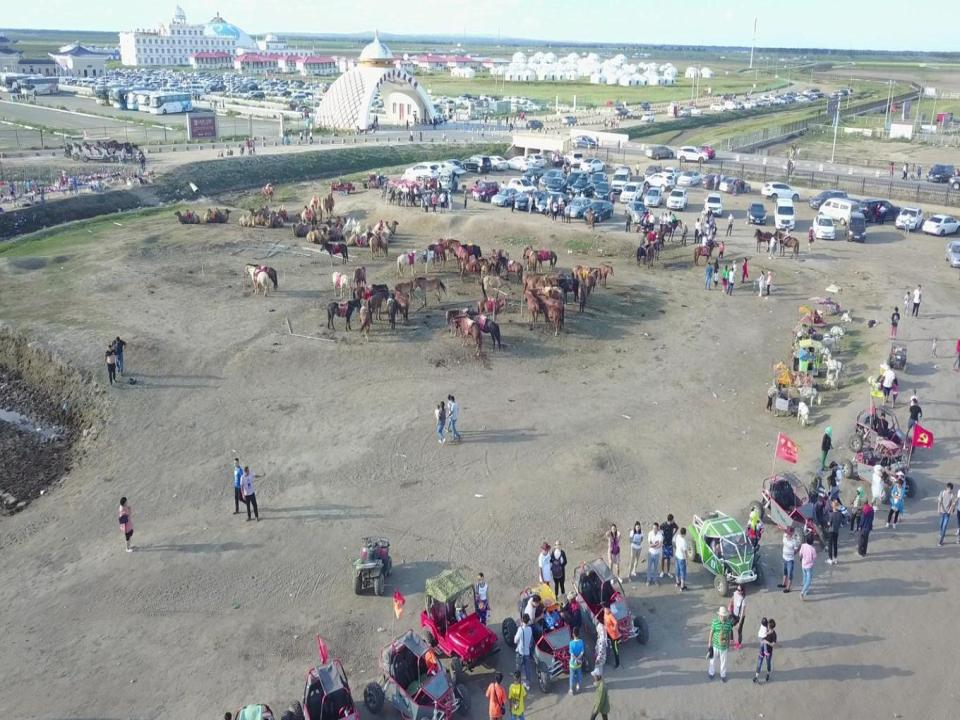bus: (149, 93, 194, 114), (106, 85, 142, 106), (95, 86, 130, 106), (20, 78, 60, 95), (114, 88, 146, 108), (127, 89, 157, 109), (139, 91, 167, 111), (2, 76, 35, 92)
car: (859, 200, 903, 222), (762, 179, 800, 202), (923, 215, 960, 238), (676, 144, 711, 165), (582, 202, 616, 222), (897, 203, 922, 230), (537, 191, 567, 213), (507, 177, 540, 197), (812, 213, 836, 240), (626, 200, 652, 224), (666, 185, 689, 212), (925, 163, 954, 184), (644, 172, 674, 192), (516, 191, 547, 210), (406, 163, 438, 181), (494, 187, 522, 207), (676, 168, 702, 188), (610, 167, 630, 193), (473, 182, 499, 202), (719, 177, 751, 193), (626, 201, 649, 223), (621, 180, 643, 203), (566, 172, 592, 191), (567, 198, 591, 218), (507, 155, 533, 173), (588, 171, 609, 193), (464, 156, 491, 173), (646, 144, 674, 160), (704, 193, 724, 215), (701, 173, 728, 189), (539, 170, 563, 188), (422, 161, 449, 177), (573, 175, 595, 194), (582, 157, 608, 173), (593, 182, 615, 200), (541, 150, 563, 168), (444, 157, 470, 172), (747, 202, 766, 222), (663, 165, 685, 182), (644, 187, 663, 206), (944, 241, 960, 263), (691, 145, 717, 158), (565, 150, 586, 166), (524, 168, 545, 184), (486, 156, 507, 172), (547, 177, 567, 193), (644, 165, 663, 180), (524, 154, 544, 168), (639, 112, 658, 123), (710, 101, 727, 111), (616, 106, 633, 116), (527, 119, 544, 129), (688, 106, 704, 115), (562, 115, 578, 124), (682, 106, 691, 117), (670, 100, 680, 107), (641, 103, 650, 110)
truck: (436, 169, 461, 191)
van: (819, 198, 859, 225), (810, 189, 848, 209), (846, 210, 866, 242), (774, 198, 794, 229), (668, 104, 680, 118), (724, 101, 736, 110)
